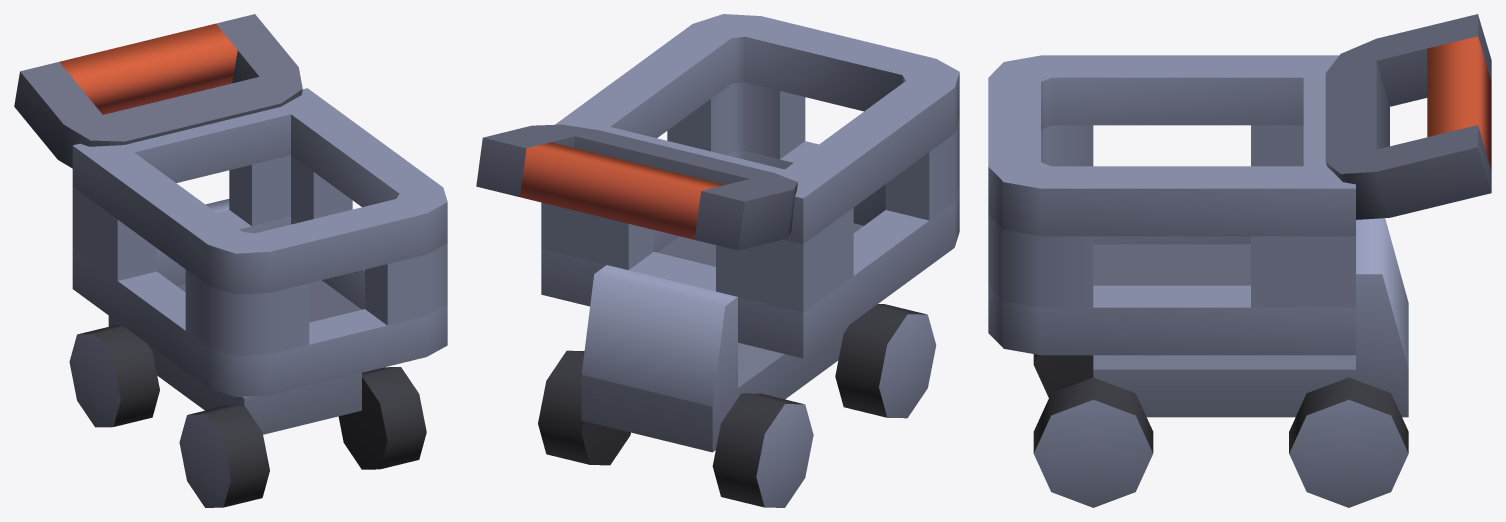
The model's file is shopping-cart.glb.
The picture shows the model from 3 angles, left to right: view 1: azimuth 30°, elevation 25°; view 2: azimuth 150°, elevation 25°; view 3: azimuth 270°, elevation 25°; orthographic projection. The views are drawn at different scales.
Visible parts, largest first — view 1: shopping-cart; view 2: shopping-cart; view 3: shopping-cart.
Boxes of the visible parts, x1=… form: shopping-cart: x1=14, y1=14, x2=447, y2=507; shopping-cart: x1=476, y1=14, x2=959, y2=507; shopping-cart: x1=988, y1=14, x2=1491, y2=507.
Size of the model in its own units: 0.3 by 0.3906 by 0.4789.
